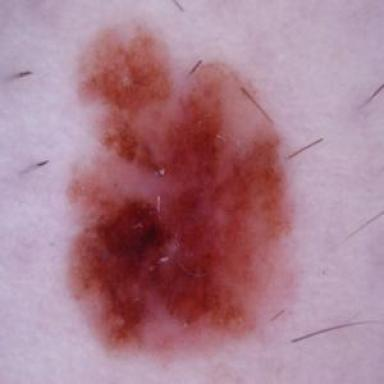Melanoma: (70, 28, 288, 350)
